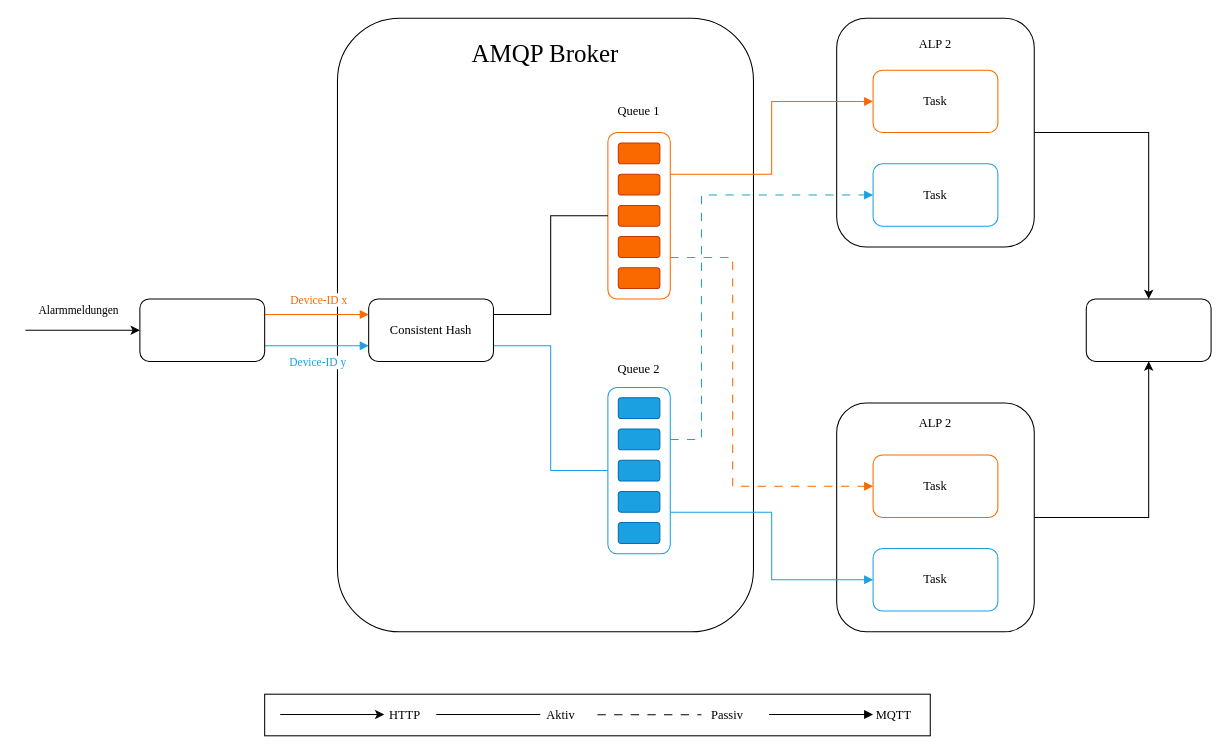
Image size: 1229x754. Some labels were removed from this diagram. Here are the shapes that lost their labels. From the top down, the centre of each, then its label:
At [202,329]: "Producer".
At [1148,329]: "SRV 3".
